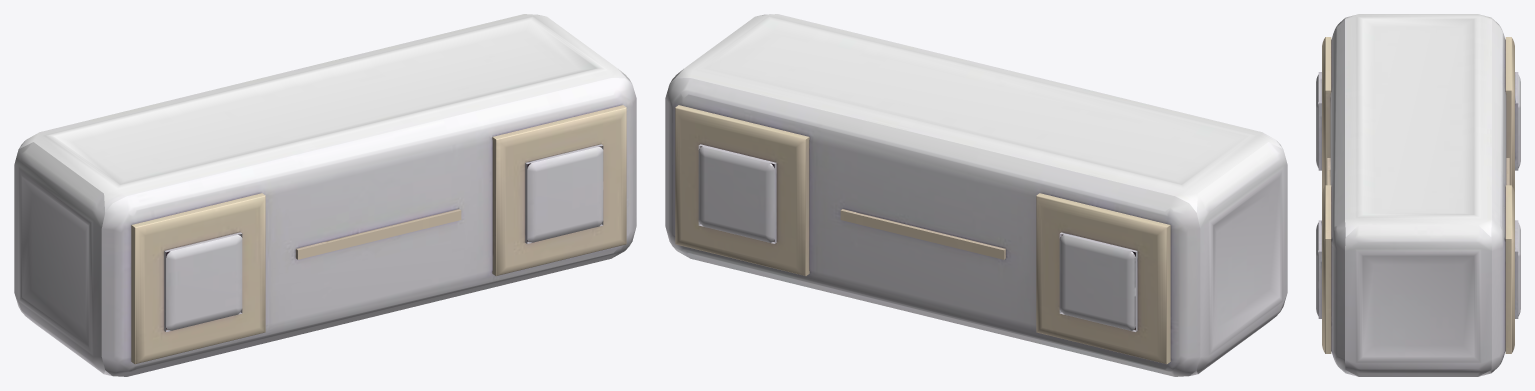
The model's file is kiris3.glb.
3 views of the same model, side by side, from view 1: azimuth 30°, elevation 25°; view 2: azimuth 150°, elevation 25°; view 3: azimuth 270°, elevation 25° (orthographic). The views are drawn at different scales.
Visible parts, largest first — view 1: kiris3; view 2: kiris3; view 3: kiris3.
Part boxes in pixels (box(x1,y1,x2,y2)): kiris3: box(14, 14, 636, 376); kiris3: box(665, 14, 1287, 376); kiris3: box(1316, 14, 1520, 376).
Size of the model in its own units: 4.62 by 1.53 by 1.8.
Materials: 1 (1 with a texture image).
